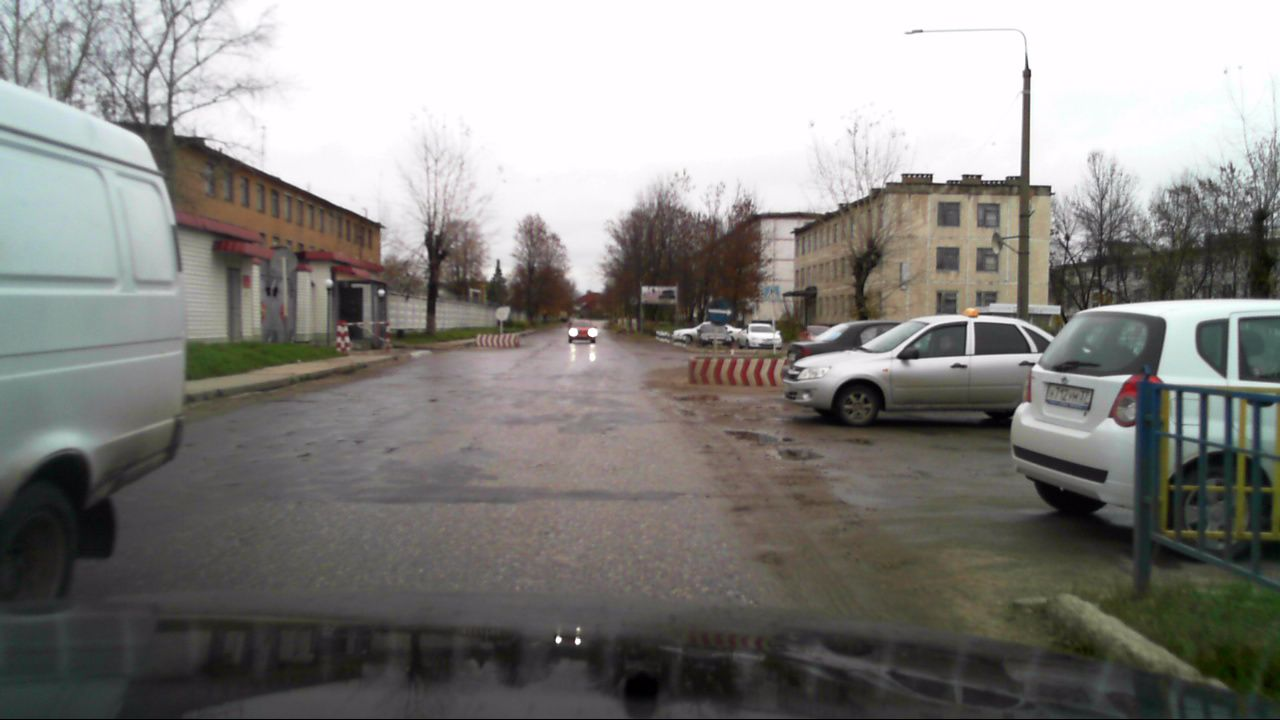Turn Right: (707, 300, 734, 324)
